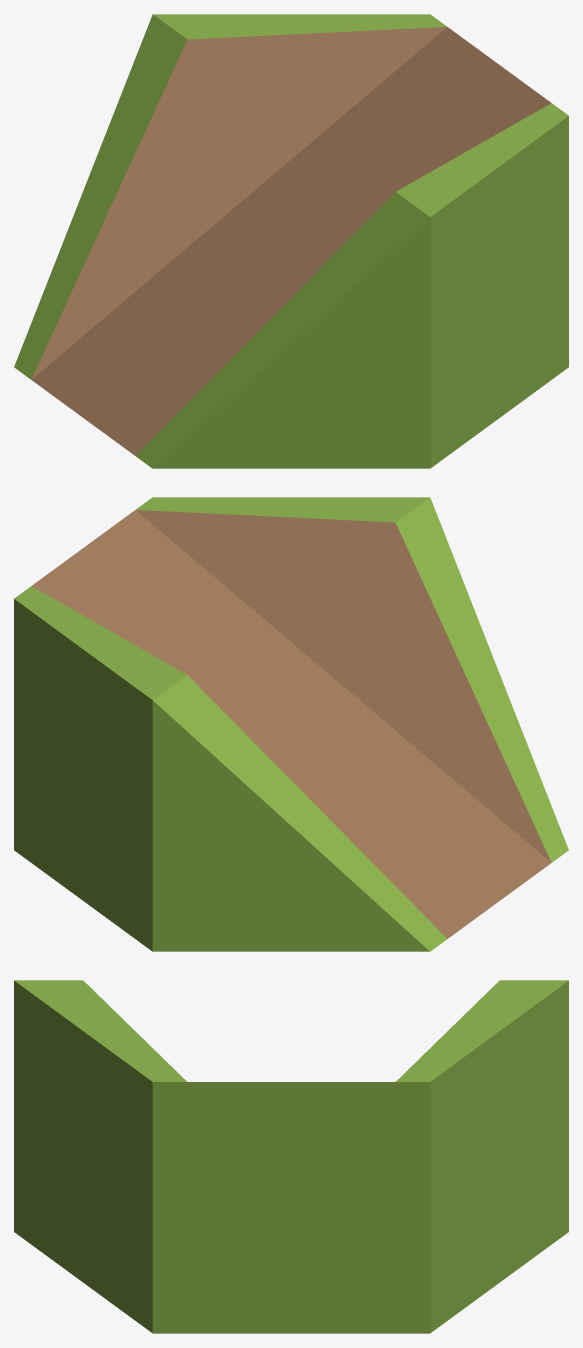
File: road_downhill2.fbx
3 views of the same model, one above another, from view 1: azimuth 30°, elevation 25°; view 2: azimuth 150°, elevation 25°; view 3: azimuth 270°, elevation 25° (orthographic).
Visible parts, largest first — view 1: Cylinder; view 2: Cylinder; view 3: Cylinder.
Boxes of the visible parts, x1,y1,x2,y2 form: Cylinder: (14, 14, 568, 468); Cylinder: (14, 497, 568, 951); Cylinder: (14, 980, 568, 1333).
Size of the model in its own units: 1.73 by 1 by 2.
